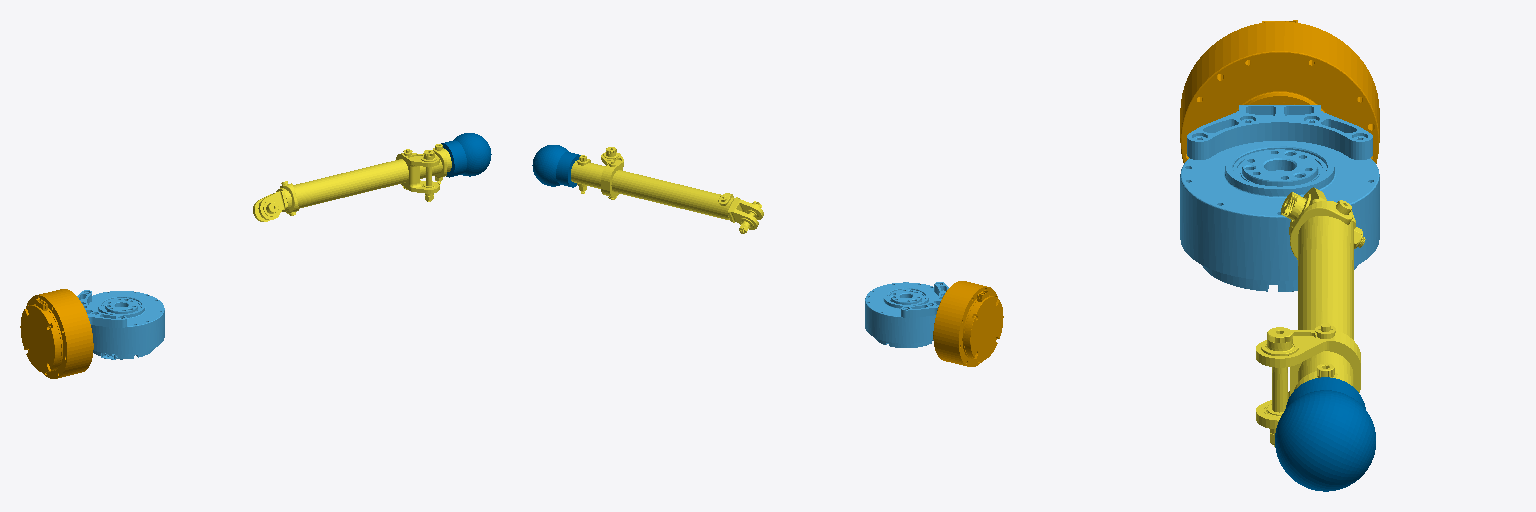
URDF robot description (MagicLimbRobotPlanarFL):
<?xml version='1.0' encoding='utf-8'?>
<robot name="MagicLimbRobotPlanarFL">
    <link name="MotorHip">
        <visual name="MotorHip_visual">
            <origin xyz="0.0 0.0 0.0" rpy="0.0 0.0 0.0" />
            <geometry>
                <mesh filename="meshes/MotorHip.stl" scale="0.001 0.001 0.001" />
            </geometry>
        </visual>
        <collision name="MotorHip_collision">
            <origin xyz="0.0 0.0 0.0" rpy="0.0 0.0 0.0" />
            <geometry>
                <mesh filename="meshes/MotorHip.stl" scale="0.001 0.001 0.001" />
            </geometry>
        </collision>
    </link>
    <link name="MotorThigh">
        <visual name="MotorThigh_visual">
            <origin xyz="0 0 0" rpy="0 0 0" />
            <geometry>
                <mesh filename="meshes/MotorThigh.stl" scale="0.001 0.001 0.001" />
            </geometry>
        </visual>
        <collision name="MotorThigh_collision">
            <origin xyz="0 0 0" rpy="0 0 0" />
            <geometry>
                <mesh filename="meshes/MotorThigh.stl" scale="0.001 0.001 0.001" />
            </geometry>
        </collision>
    </link>
    <link name="ThighReal_B">
        <visual name="ThighReal_B_visual">
            <origin xyz="0 0 0" rpy="0 0 0" />
            <geometry>
                <mesh filename="meshes/ThighReal_B.stl" scale="0.001 0.001 0.001" />
            </geometry>
        </visual>
        <collision name="ThighReal_B_collision">
            <origin xyz="0 0 0" rpy="0 0 0" />
            <geometry>
                <mesh filename="meshes/ThighReal_B.stl" scale="0.001 0.001 0.001" />
            </geometry>
        </collision>
    </link>
    <link name="CalfReal_B">
        <visual name="CalfReal_B_visual">
            <origin xyz="0 0 0" rpy="-1.047197551 0 0" />
            <geometry>
                <mesh filename="meshes/CalfReal_B.stl" scale="0.001 0.001 0.001" />
            </geometry>
        </visual>
        <collision name="CalfReal_B_collision">
            <origin xyz="0 0 0" rpy="-1.047197551 0 0" />
            <geometry>
                <mesh filename="meshes/CalfReal_B.stl" scale="0.001 0.001 0.001" />
            </geometry>
        </collision>
    </link>
    <link name="Foot">
        <visual name="Foot_visual">
            <origin xyz="0 0 0" rpy="0 0 0" />
            <geometry>
                <mesh filename="meshes/Foot.stl" scale="0.001 0.001 0.001" />
            </geometry>
        </visual>
        <collision name="Foot_collision">
            <origin xyz="0 0 0" rpy="0 0 0" />
            <geometry>
                <mesh filename="meshes/Foot.stl" scale="0.001 0.001 0.001" />
            </geometry>
        </collision>
    </link>
    <joint name="hip" type="revolute">
        <origin xyz="0.0 0.0 0.0" rpy="0.0 0.0 0.0" />
        <parent link="MotorHip" />
        <child link="MotorThigh" />
        <axis xyz="1.0 0.0 0.0" />
        <limit lower="-3.141592654" upper="0" effort="1000000" velocity="1000000" />
    </joint>
    <joint name="thigh" type="revolute">
        <origin xyz="0.0 0.0 0.0746188" rpy="0.0 0.0 0.0" />
        <parent link="MotorThigh" />
        <child link="ThighReal_B" />
        <axis xyz="0.0 0.0 1.0" />
        <limit lower="0" upper="3.141592654" effort="1000000" velocity="1000000" />
    </joint>
    <joint name="knee" type="revolute">
        <origin xyz="0.162 0.0 0.0" rpy="1.047197551 0.0 0.0" />
        <parent link="ThighReal_B" />
        <child link="CalfReal_B" />
        <axis xyz="0.0 0.0 1.0" />
        <limit lower="-3.141592654" upper="0" effort="1000000" velocity="1000000" />
    </joint>

    <joint name="foot_fix" type="fixed">
        <origin xyz="0.215 0.005 -0.01789786" rpy="0.0 0.0 1.570796327" />
        <parent link="CalfReal_B" />
        <child link="Foot" />
    </joint>
    
</robot>

--- Facts derived from the render (not from the file) ---
Views: 3 orthographic renders of the robot side by side, from view 1: azimuth 30°, elevation 25°; view 2: azimuth 150°, elevation 25°; view 3: azimuth 270°, elevation 25°.
Robot: MagicLimbRobotPlanarFL — 5 links, 4 joints (3 revolute, 1 fixed); root link MotorHip; default pose: every joint at zero.
Links seen in each view (by area): view 1: CalfReal_B, MotorHip, MotorThigh, Foot; view 2: CalfReal_B, MotorHip, MotorThigh, Foot; view 3: MotorThigh, MotorHip, CalfReal_B, Foot.
Link boxes in pixels (x1,y1,x2,y2): CalfReal_B: (253, 144, 451, 221); MotorHip: (20, 289, 93, 378); MotorThigh: (77, 290, 164, 359); Foot: (441, 133, 491, 177); CalfReal_B: (571, 147, 763, 233); MotorHip: (933, 281, 1003, 366); MotorThigh: (865, 282, 948, 347); Foot: (532, 145, 580, 187); MotorThigh: (1180, 105, 1379, 291); MotorHip: (1180, 20, 1379, 163); CalfReal_B: (1256, 187, 1365, 446); Foot: (1275, 377, 1375, 491).
Bounding box of the posed robot: 0.4855 × 0.0785 × 0.1317 m (x, y, z).
Meshes: 5 distinct files referenced, 4 mesh visuals loaded (4 binary STL); not drawn: 1 (reference not matched to a file when rendering).
